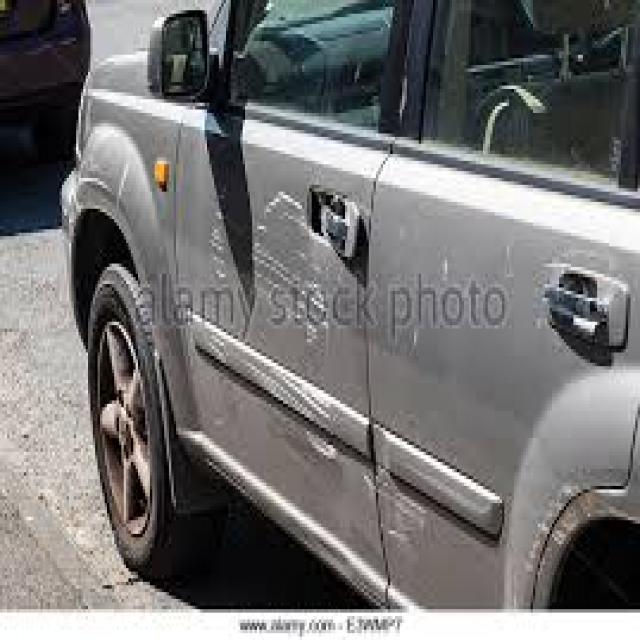minor: (196, 191, 351, 336)
